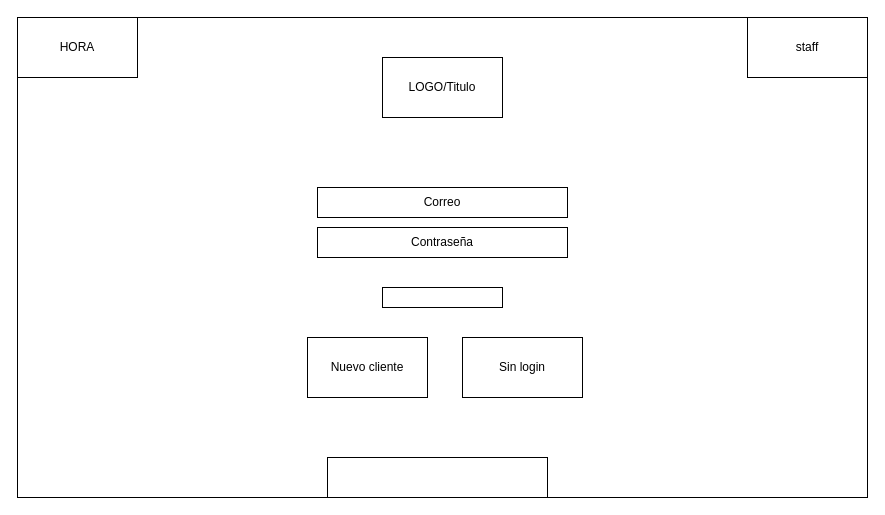
Image size: 885x515. Some labels were removed from this diagram. Each missing label, with the box of its shape:
Aceptar: (382, 286, 502, 308)
Redes Sociales: (326, 456, 548, 498)
